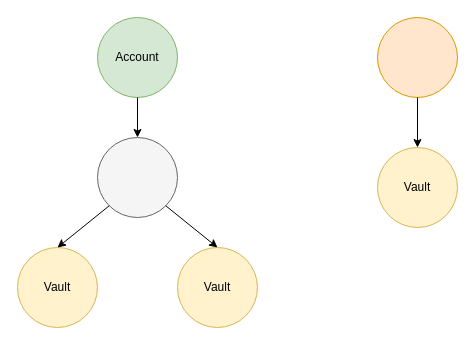
Image size: 475x345. Some labels were removed from this diagram. Each missing label, with the centre of its shape:
Key Value Store: pixel 137 177
Radiswap: pixel 417 57
